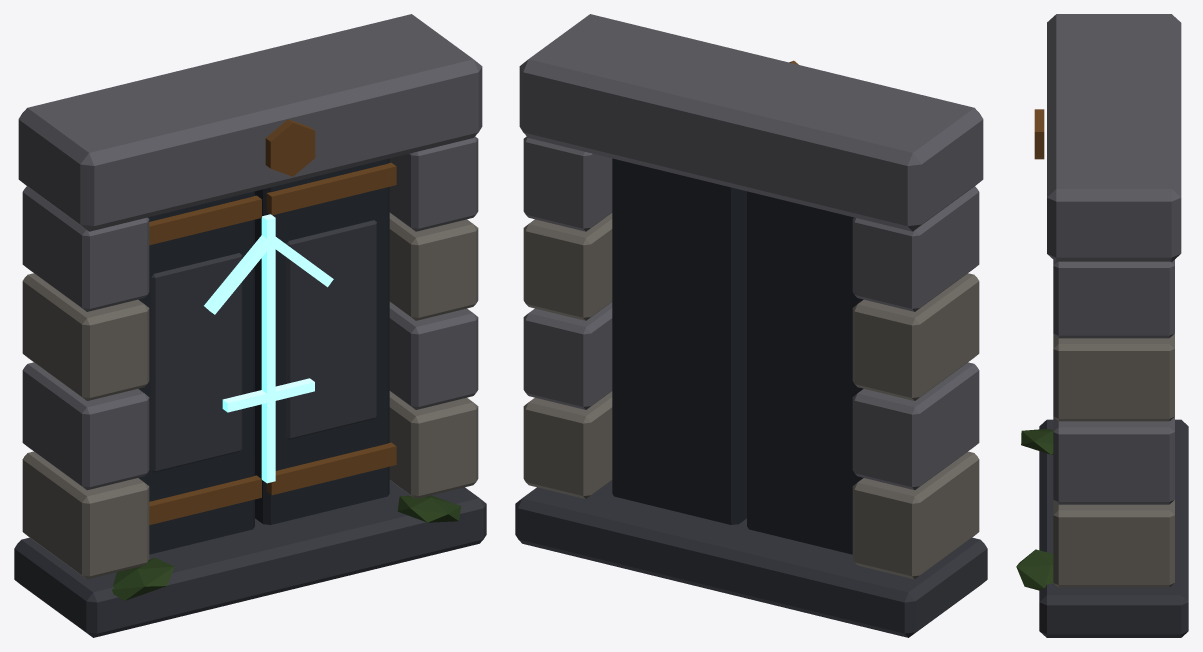
The model's file is Sealed_Ritual_Door.glb.
3 views of the same model, side by side, from view 1: azimuth 30°, elevation 25°; view 2: azimuth 150°, elevation 25°; view 3: azimuth 270°, elevation 25° (orthographic). The views are drawn at different scales.
Visible parts, largest first — view 1: Sealed_Ritual_Door; view 2: Sealed_Ritual_Door; view 3: Sealed_Ritual_Door.
Boxes of the visible parts, x1,y1,x2,y2 form: Sealed_Ritual_Door: (14, 14, 486, 637); Sealed_Ritual_Door: (515, 14, 987, 637); Sealed_Ritual_Door: (1016, 14, 1188, 637).
Size of the model in its own units: 2.03 by 2.32 by 0.8085.
